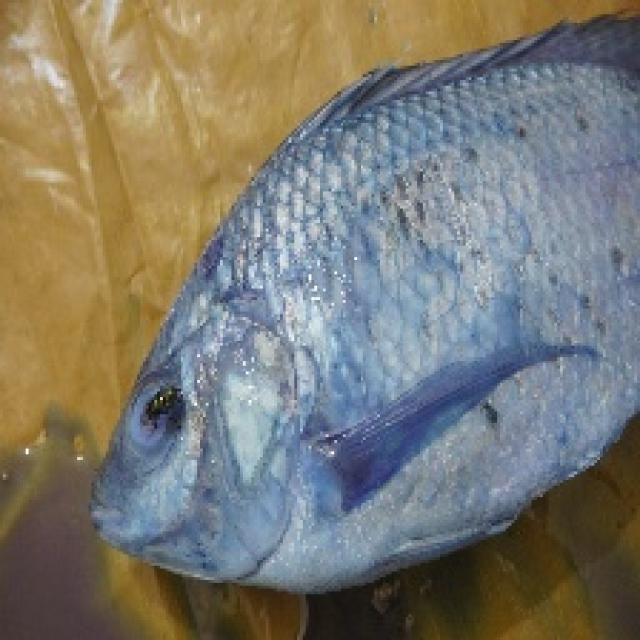Non-Fresh: (228, 136, 589, 565), (132, 374, 206, 459)
